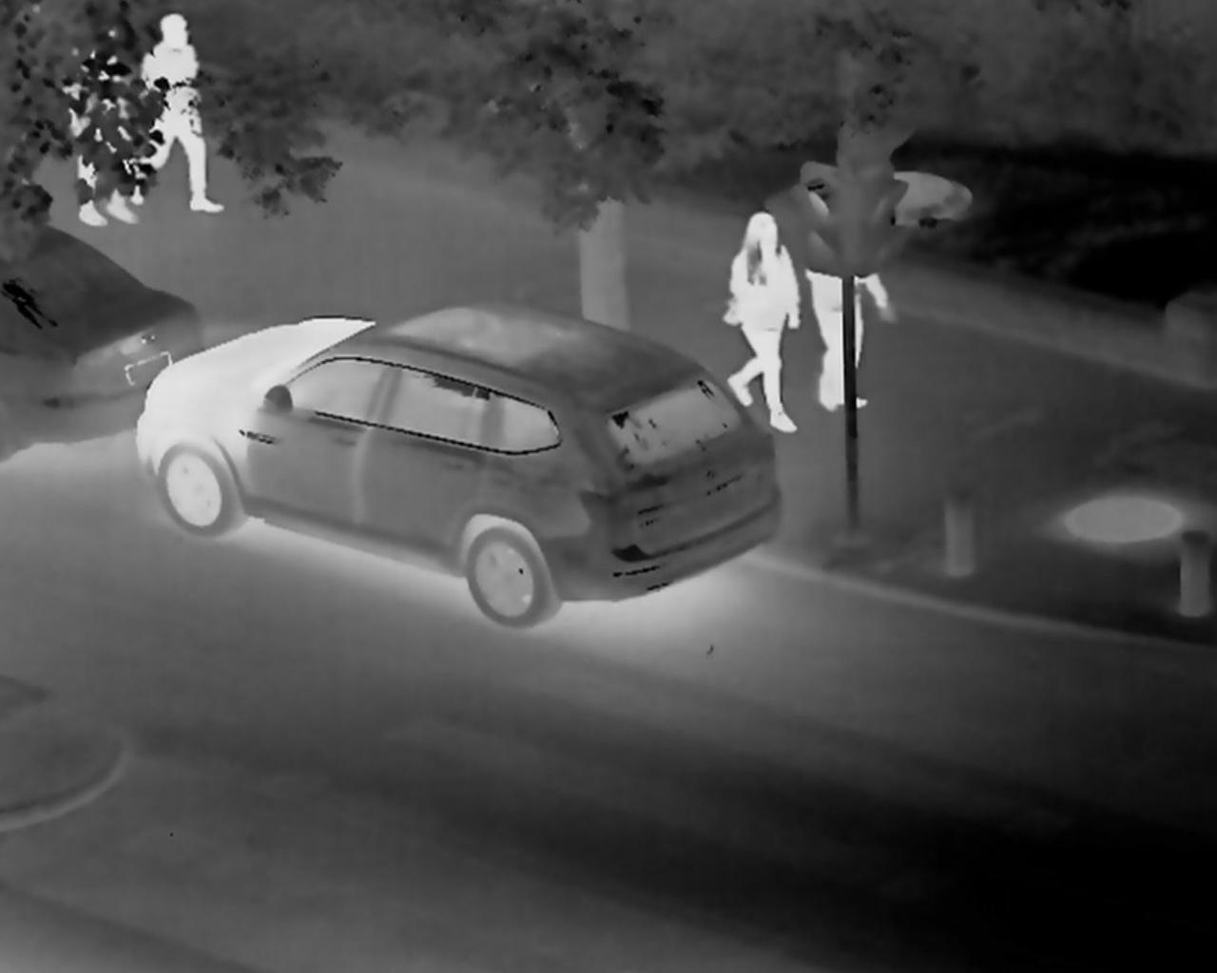person: (722, 208, 800, 434), (807, 215, 893, 415), (142, 12, 225, 217), (60, 28, 139, 229)
